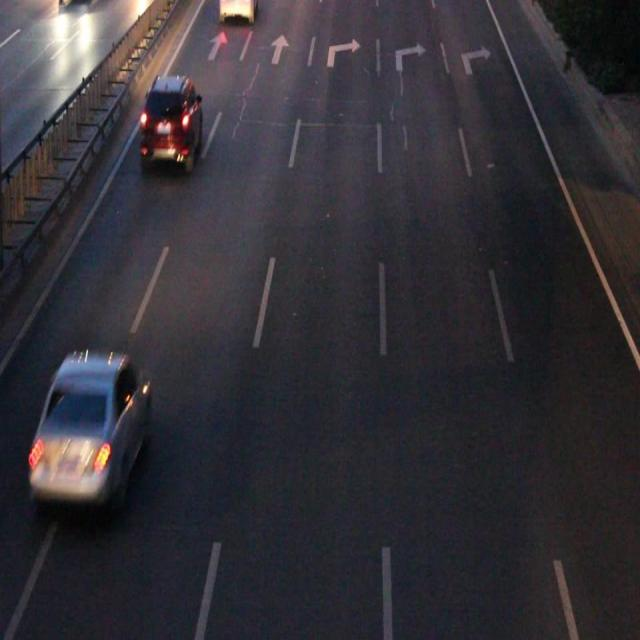car: (33, 356, 149, 501), (142, 80, 202, 164), (219, 1, 254, 20)
